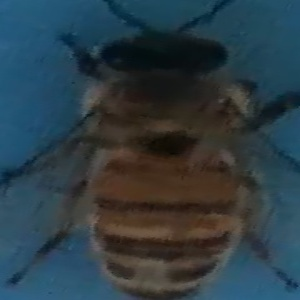bee: (17, 4, 292, 300)
